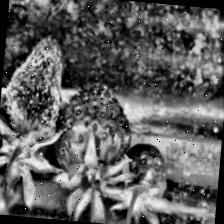Gray Mold: (0, 33, 76, 210)
